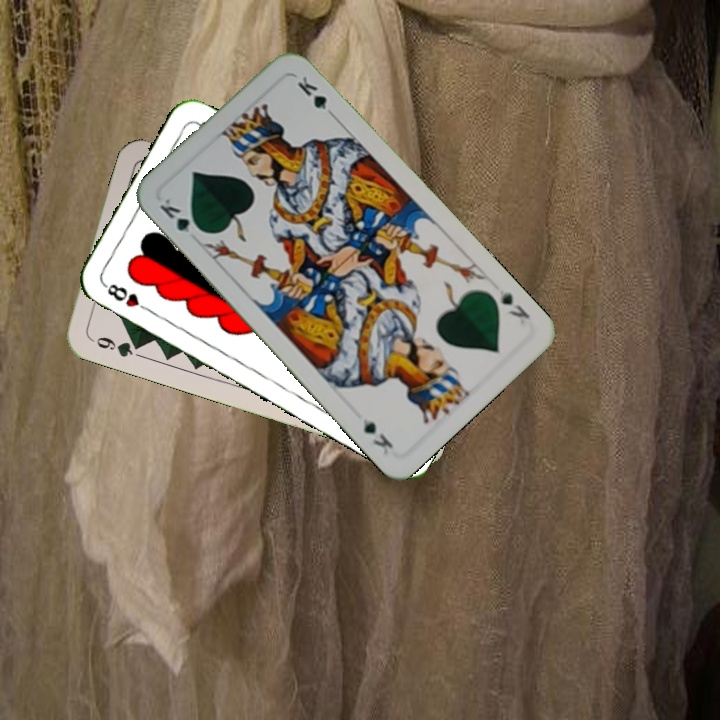G9: (85, 333, 145, 360)
GK: (155, 194, 206, 236), (493, 285, 533, 322)
H8: (99, 279, 154, 315)
